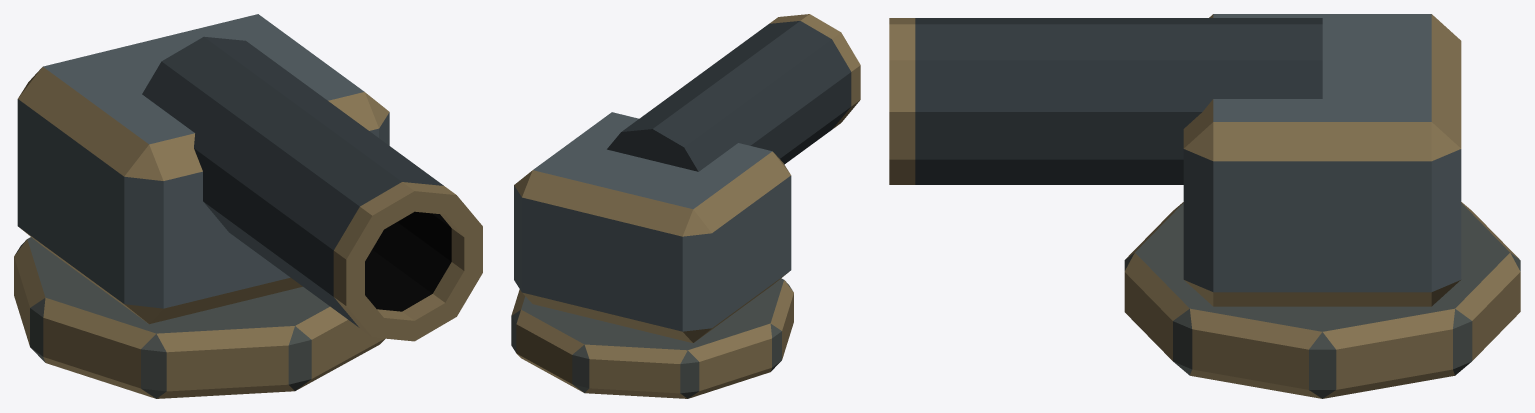
File: CannonTower.glb
3 renders of one model, left to right at view 1: azimuth 30°, elevation 25°; view 2: azimuth 150°, elevation 25°; view 3: azimuth 270°, elevation 25°, orthographic. The views are drawn at different scales.
Parts seen in each view (by area): view 1: CannonBarrel, CannonTurret, CannonBase; view 2: CannonTurret, CannonBarrel, CannonBase; view 3: CannonTurret, CannonBarrel, CannonBase.
Part boxes in pixels (<box>): CannonBarrel: <box>142,36,482,341</box>; CannonTurret: <box>17,14,389,324</box>; CannonBase: <box>14,237,385,398</box>; CannonTurret: <box>514,112,791,342</box>; CannonBarrel: <box>607,14,860,171</box>; CannonBase: <box>511,278,793,398</box>; CannonTurret: <box>1183,14,1461,306</box>; CannonBarrel: <box>889,18,1322,184</box>; CannonBase: <box>1124,202,1520,398</box>.
Bounding box in the file's own units: 1.07 × 0.88 × 1.7.
